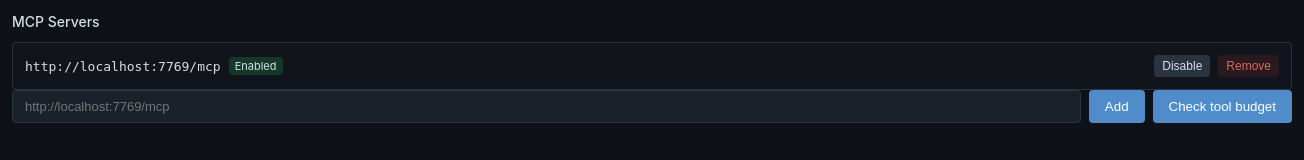
it: McpTab › clears the stale tool-budget summary when a server is removed
Click the button "Check tool budget" at (1222, 106), box [1152,90,1292,123]
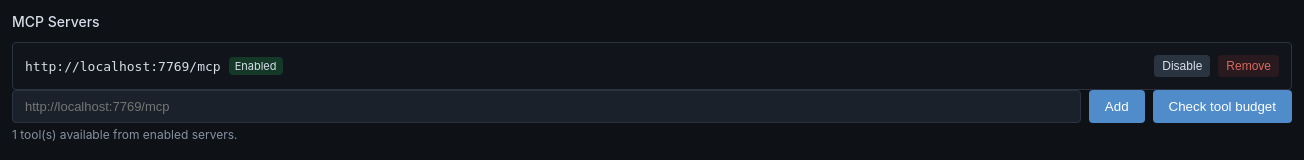
Check: the text "1 tool(s) available from enabled servers." is shown, box [12,127,238,142]
Click the button "Remove" at (1249, 66), box [1218,55,1279,77]
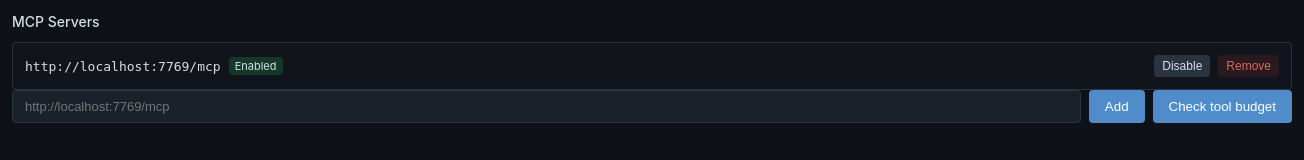
Check: the text "tool(s) available" is gone
